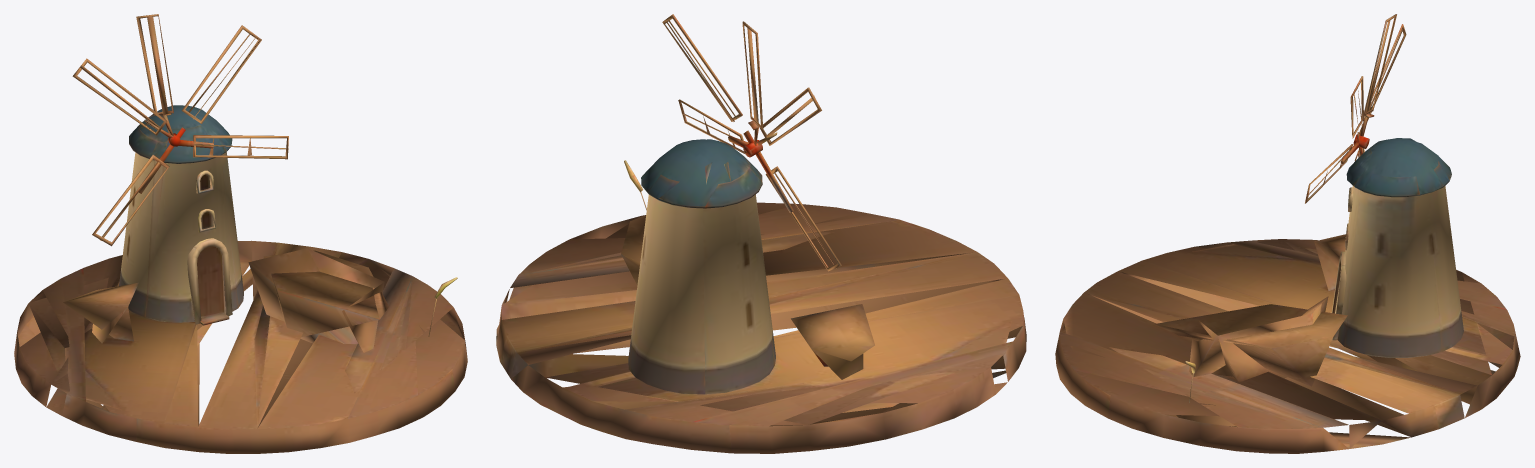
File: mini-fields.glb
The picture shows the model from 3 angles, left to right: view 1: azimuth 30°, elevation 25°; view 2: azimuth 150°, elevation 25°; view 3: azimuth 270°, elevation 25°; orthographic projection. The views are drawn at different scales.
Size of the model in its own units: 0.9561 by 0.73 by 0.9629.
Materials: 1 (1 with a texture image).
